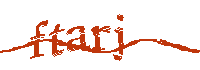a: (66, 24, 88, 52)
f: (30, 20, 48, 58)
j: (112, 13, 126, 62)
r: (89, 23, 111, 54)
t: (49, 22, 65, 57)
